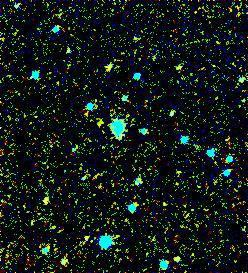star: (84, 109, 114, 139)
